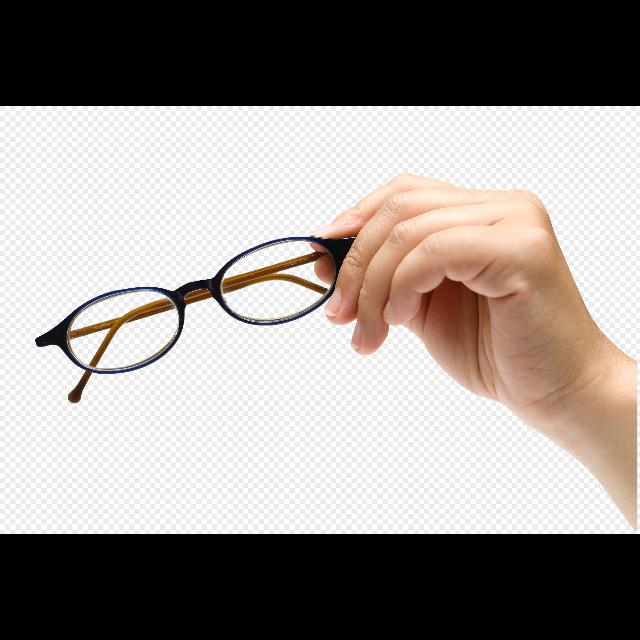glasses: (25, 228, 357, 410)
